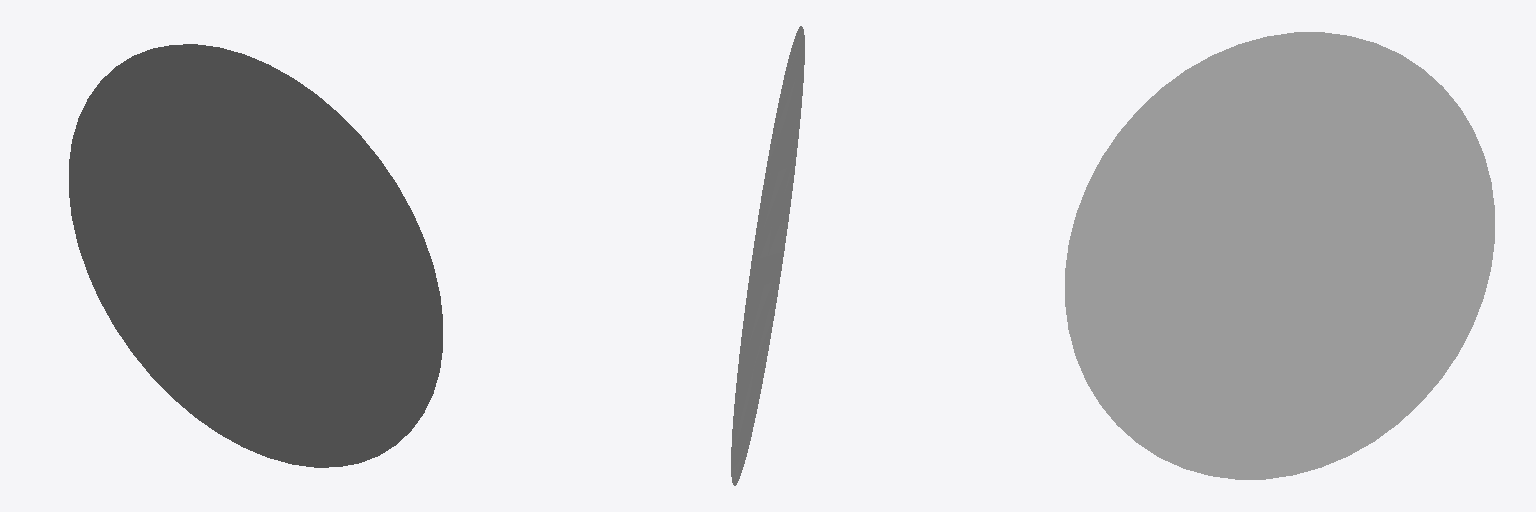
The model's file is backlight_right.obj.
The picture shows the model from 3 angles: view 1: azimuth 30°, elevation 25°; view 2: azimuth 150°, elevation 25°; view 3: azimuth 270°, elevation 25°; orthographic projection.
Parts seen in each view (by area): view 1: backlight_right; view 2: backlight_right; view 3: backlight_right.
Part boxes in pixels (x1,y1,x2,y2): backlight_right: (69,44,442,467); backlight_right: (731,26,804,485); backlight_right: (1065,32,1494,479).
Size of the model in its own units: 0.0798 by 0.1967 by 0.182.